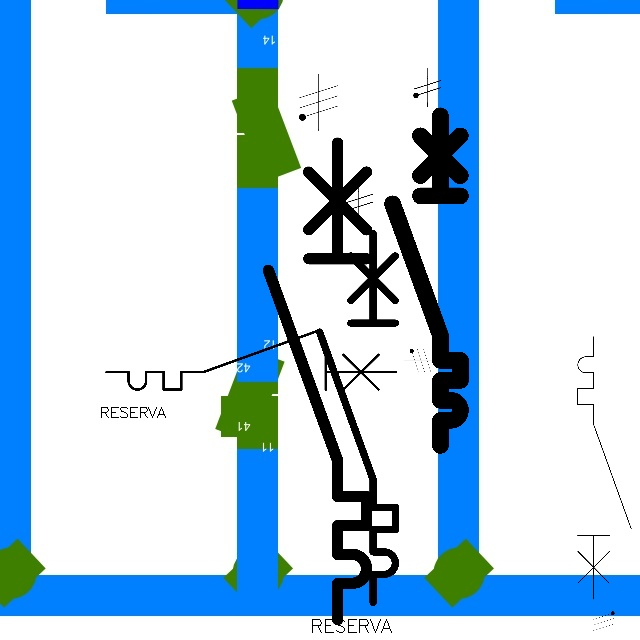interruptor_termomagnetico: (256, 130, 379, 632), (310, 223, 405, 611), (384, 107, 469, 453), (99, 323, 404, 397), (571, 330, 638, 606)
